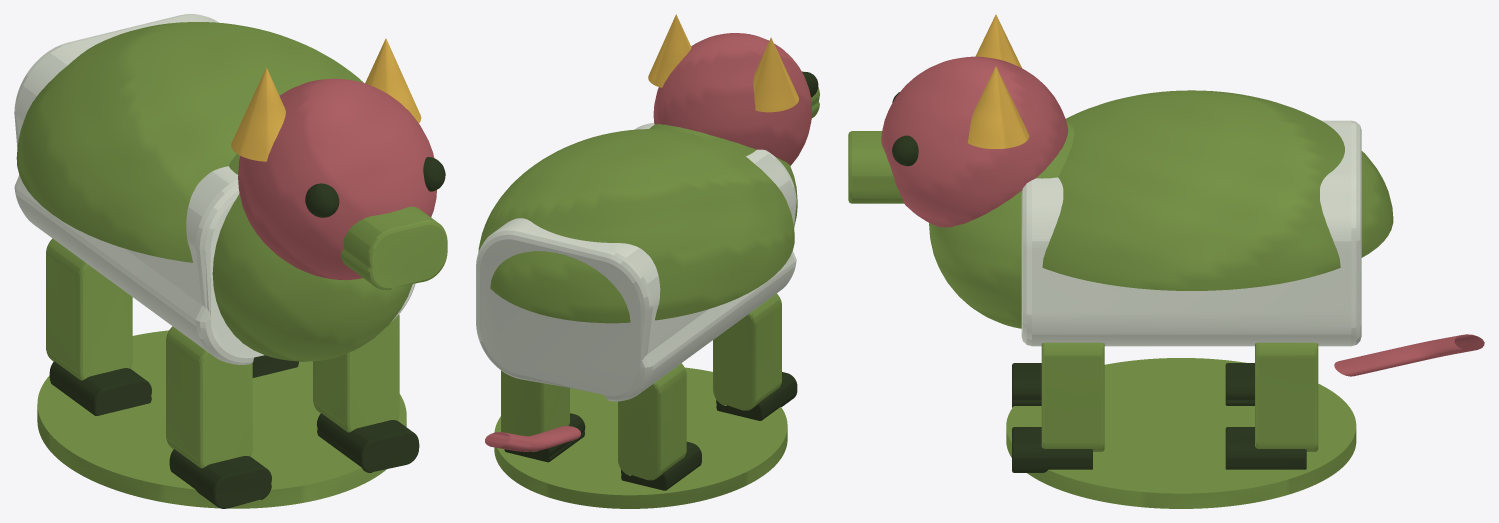
Rendered from 0835_两栖动物图鉴_大足短头蛙.glb.
3 renders of one model, left to right at view 1: azimuth 30°, elevation 25°; view 2: azimuth 150°, elevation 25°; view 3: azimuth 270°, elevation 25°, orthographic. The views are drawn at different scales.
Visible parts, largest first — view 1: card_0835; view 2: card_0835; view 3: card_0835.
Part boxes in pixels (left/top/right/bottom): card_0835: left=14, top=14, right=447, bottom=508; card_0835: left=476, top=14, right=819, bottom=508; card_0835: left=848, top=14, right=1484, bottom=508.
Bounding box in the file's own units: 0.7623 × 1 × 1.44.
